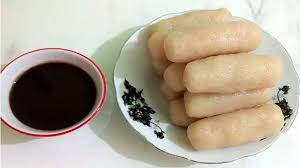Pempek lenjer: (184, 101, 287, 154), (158, 14, 266, 64), (180, 51, 286, 97), (173, 86, 294, 118)
